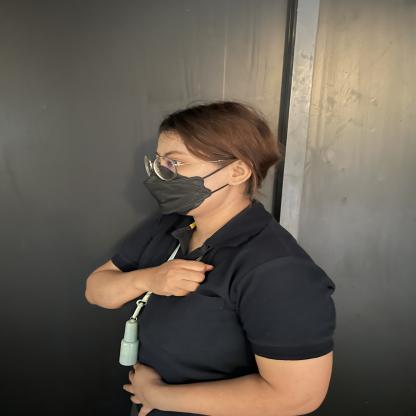Sadness: (86, 234, 216, 312)
